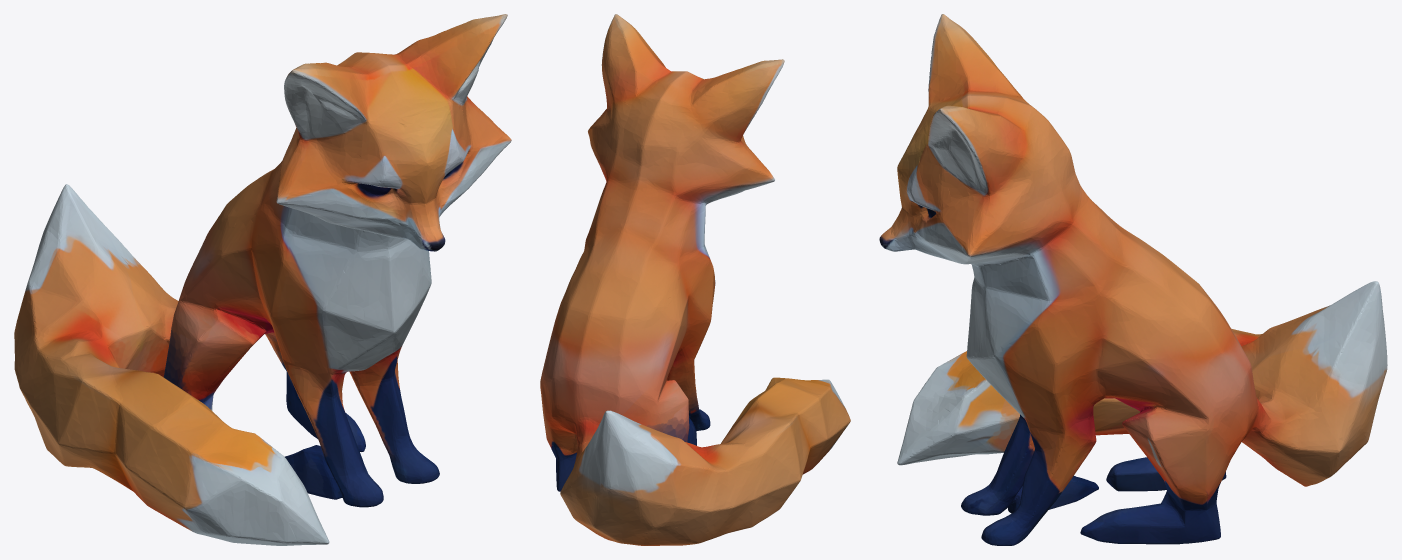
3 renders of one model, left to right at view 1: azimuth 30°, elevation 25°; view 2: azimuth 150°, elevation 25°; view 3: azimuth 270°, elevation 25°, orthographic. The views are drawn at different scales.
Visible parts, largest first — view 1: texture_v100; view 2: texture_v100; view 3: texture_v100.
Boxes of the visible parts, x1,y1,x2,y2 form: texture_v100: [14, 14, 511, 545]; texture_v100: [540, 14, 850, 545]; texture_v100: [879, 14, 1387, 545].
Size of the model in its own units: 0.6601 by 0.8411 by 0.8329.
1 material, 1 textured.
